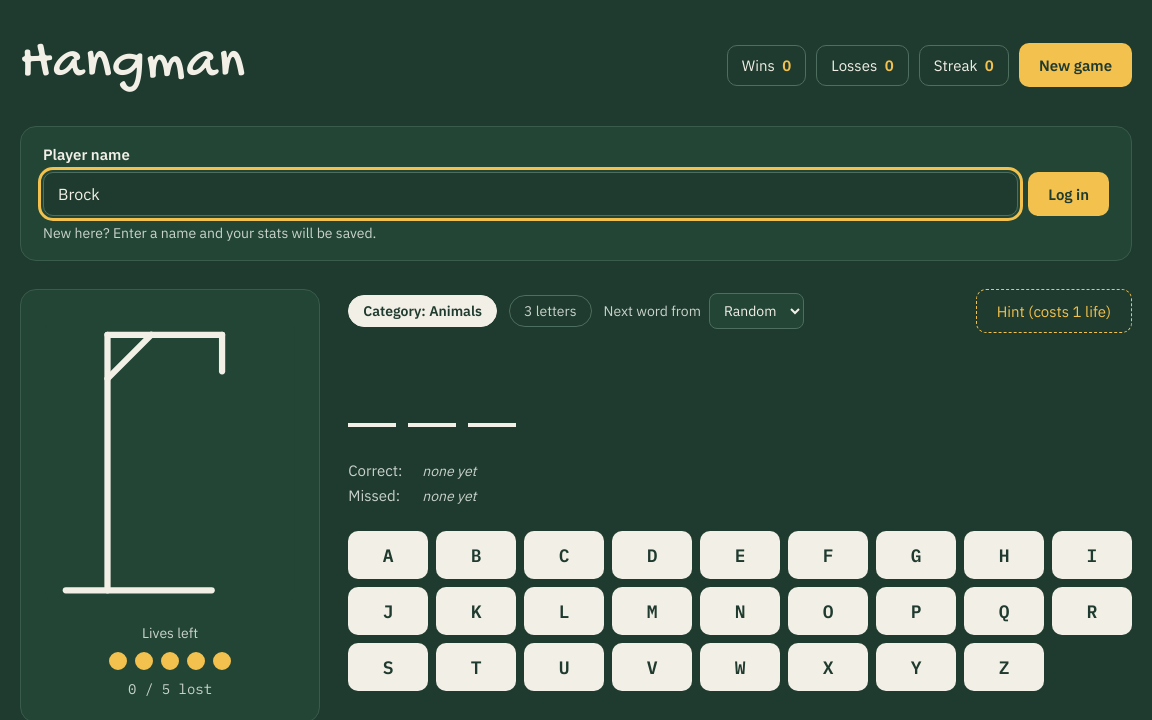
Test: App — player login and stats › PUTs a loss when the player runs out of lives
This screenshot has width=1152, height=720.
Earlier steps of the test are not shown.
Click the button "Log in". click: (1069, 194)
box: [1028, 172, 1109, 216]
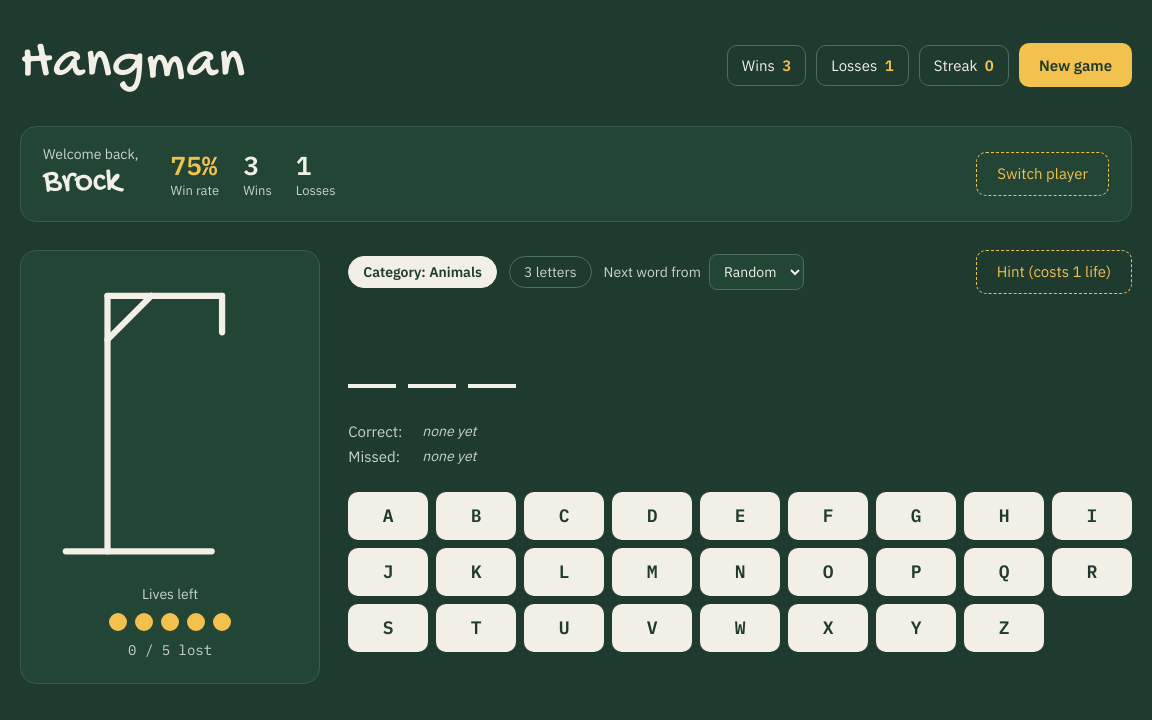
Expected: the text "Brock" is shown, [43, 161, 121, 204]
Click the button "B". click: (476, 516)
box: [436, 492, 516, 540]
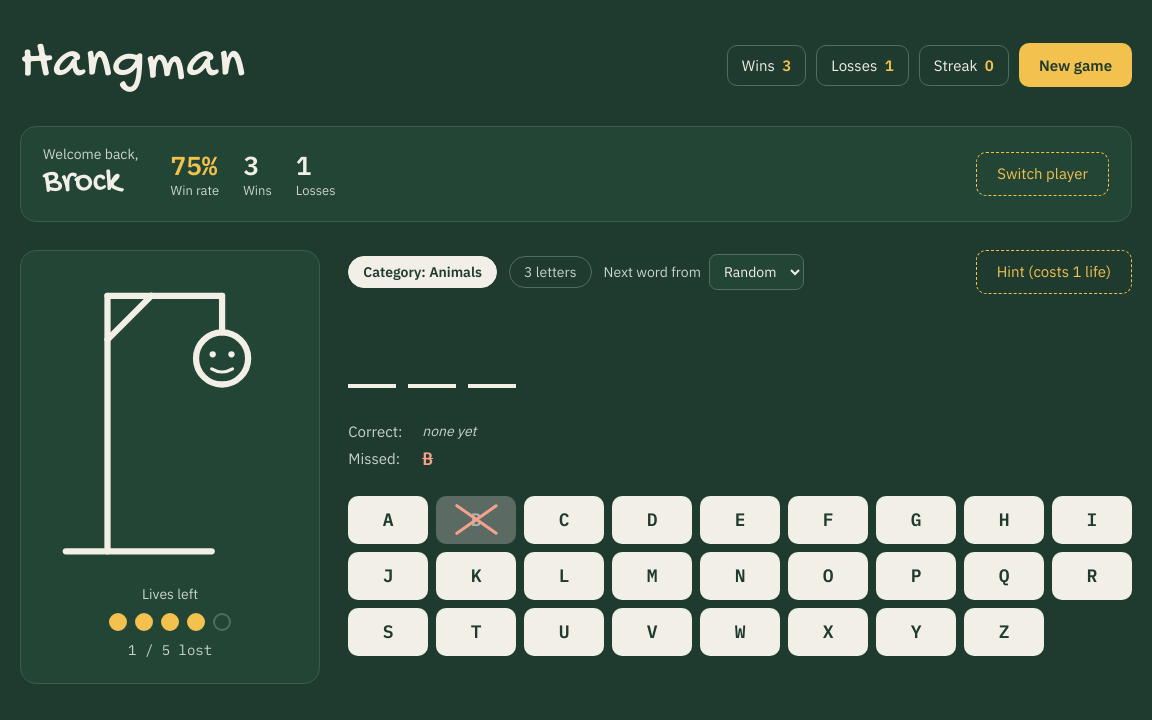
Click the button "D". click: (652, 520)
box: [612, 496, 692, 544]
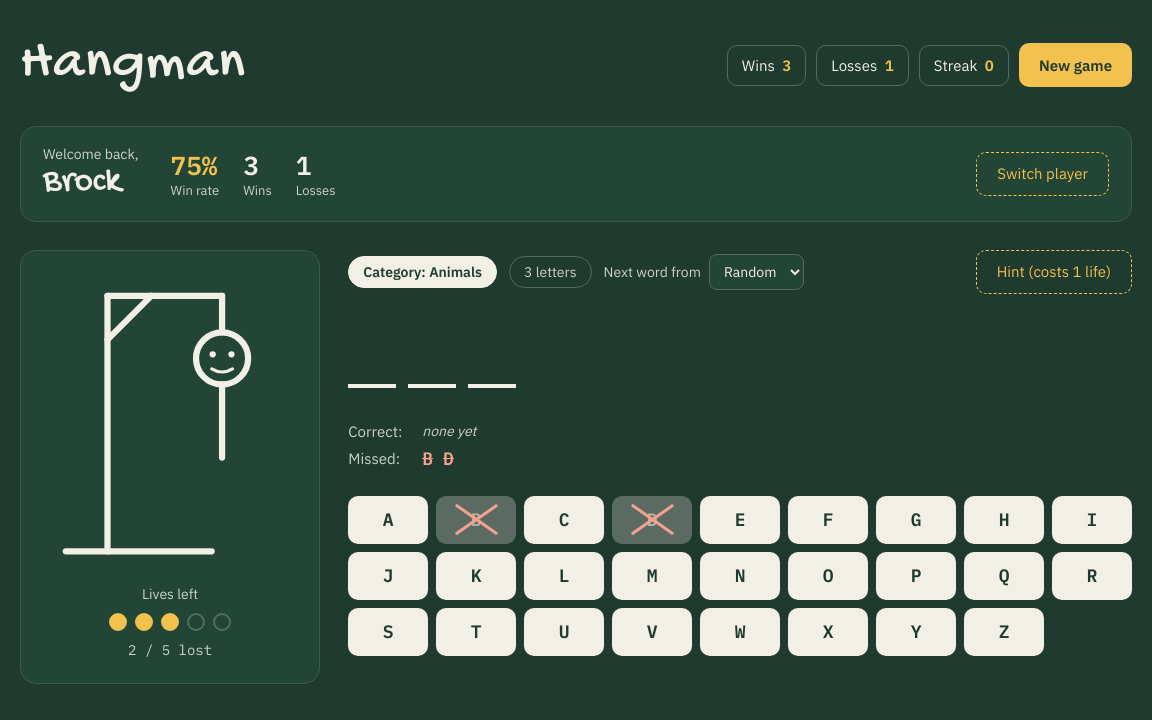
Click the button "E". click: (740, 520)
box: [700, 496, 780, 544]
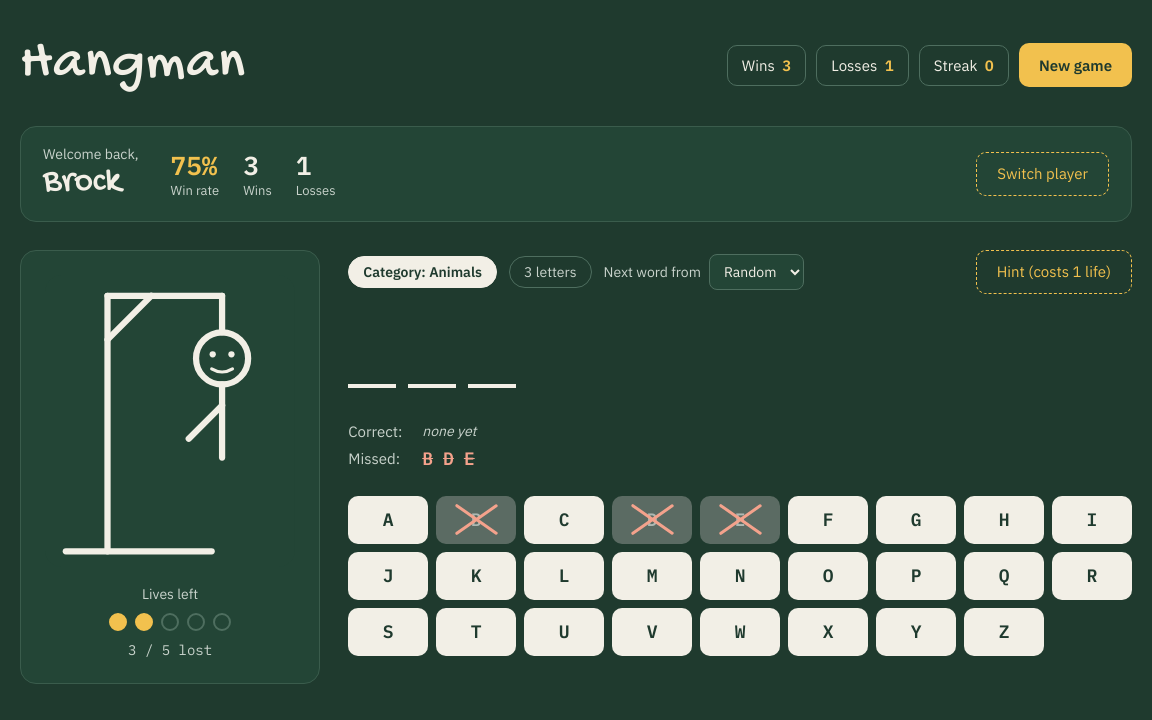
Click the button "F". click: (828, 520)
box: [788, 496, 868, 544]
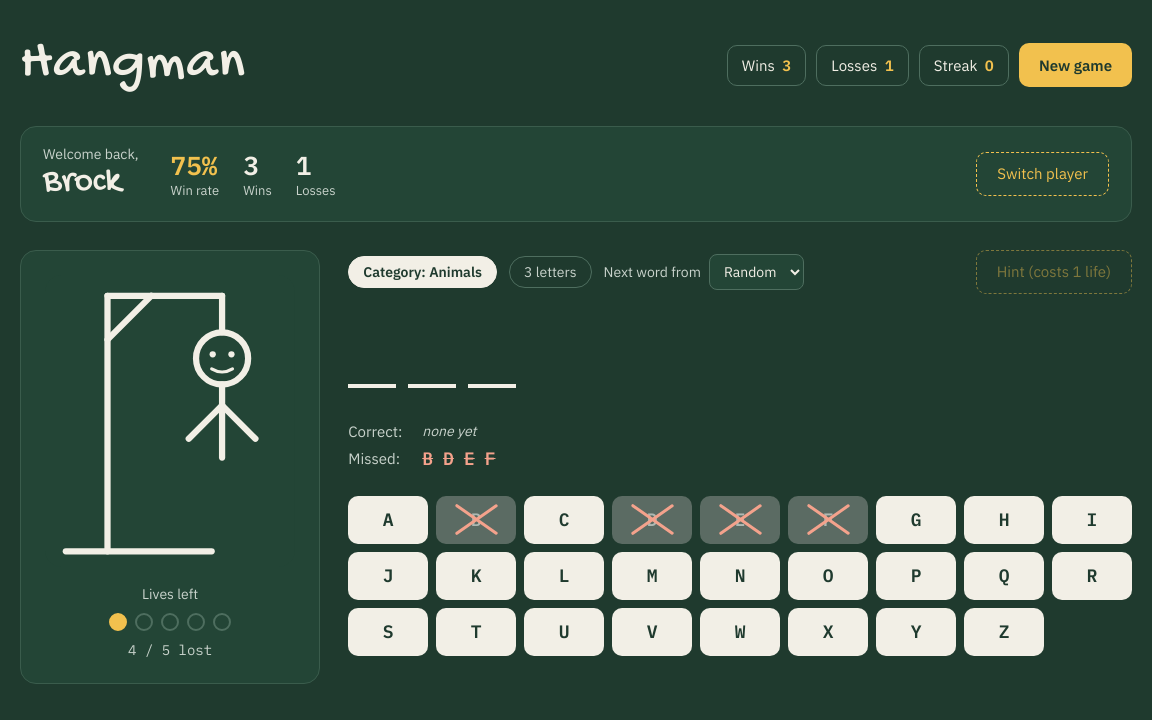
Click the button "G". click: (916, 520)
box: [876, 496, 956, 544]
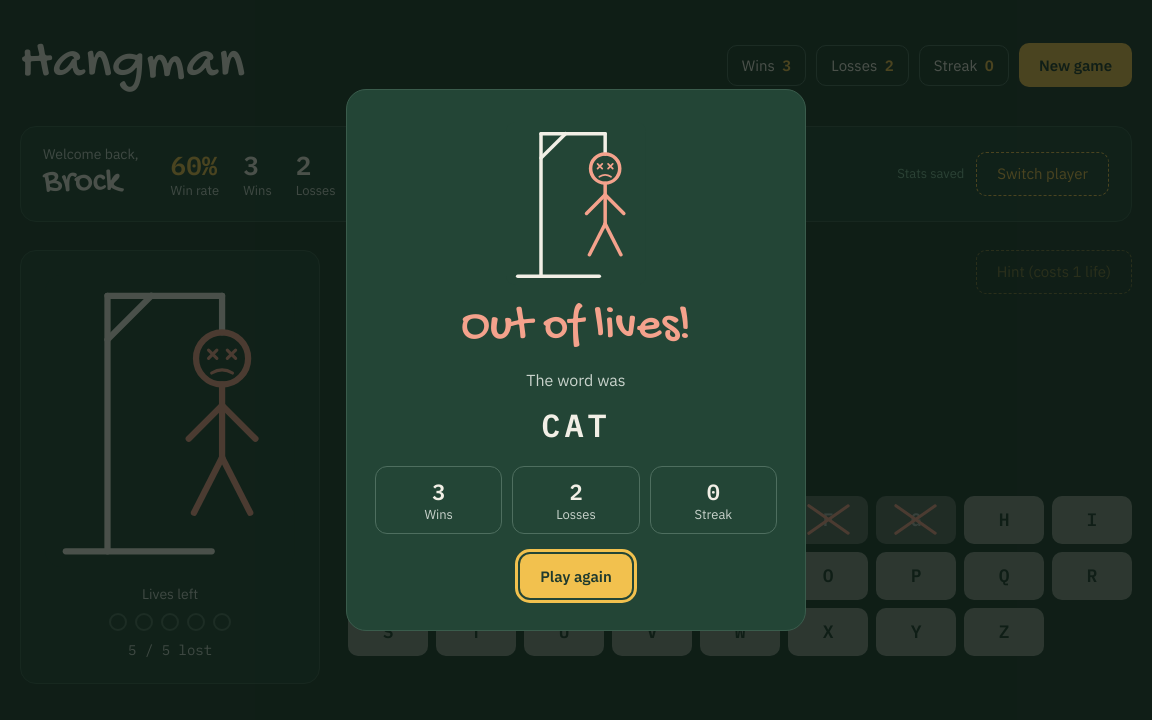
Expected: the heading "Out of lives!" is shown, [461, 299, 691, 356]
Expected: the text with test id "win-percentage" reads "60%", [171, 148, 219, 182]
